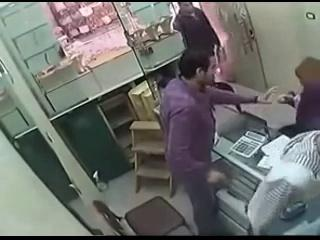Normal: (159, 48, 274, 236), (248, 123, 320, 234), (280, 200, 307, 220)
